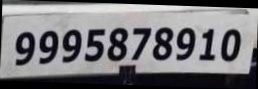character: (38, 28, 59, 64), (61, 29, 82, 63), (84, 28, 105, 62), (152, 27, 173, 60), (15, 30, 34, 66), (107, 27, 127, 61), (176, 27, 196, 61), (132, 27, 152, 60), (220, 28, 240, 61), (199, 28, 215, 61)
